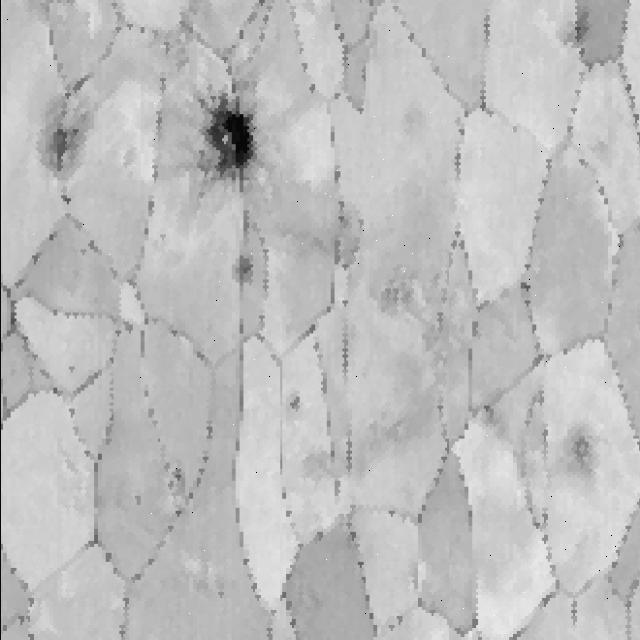good_void: (197, 91, 263, 200), (36, 106, 86, 189), (552, 410, 601, 492), (366, 257, 417, 329), (326, 208, 367, 279), (556, 5, 594, 54), (159, 451, 188, 505), (231, 252, 255, 288), (282, 387, 307, 419), (56, 191, 74, 208), (131, 490, 145, 509), (66, 362, 79, 382)
